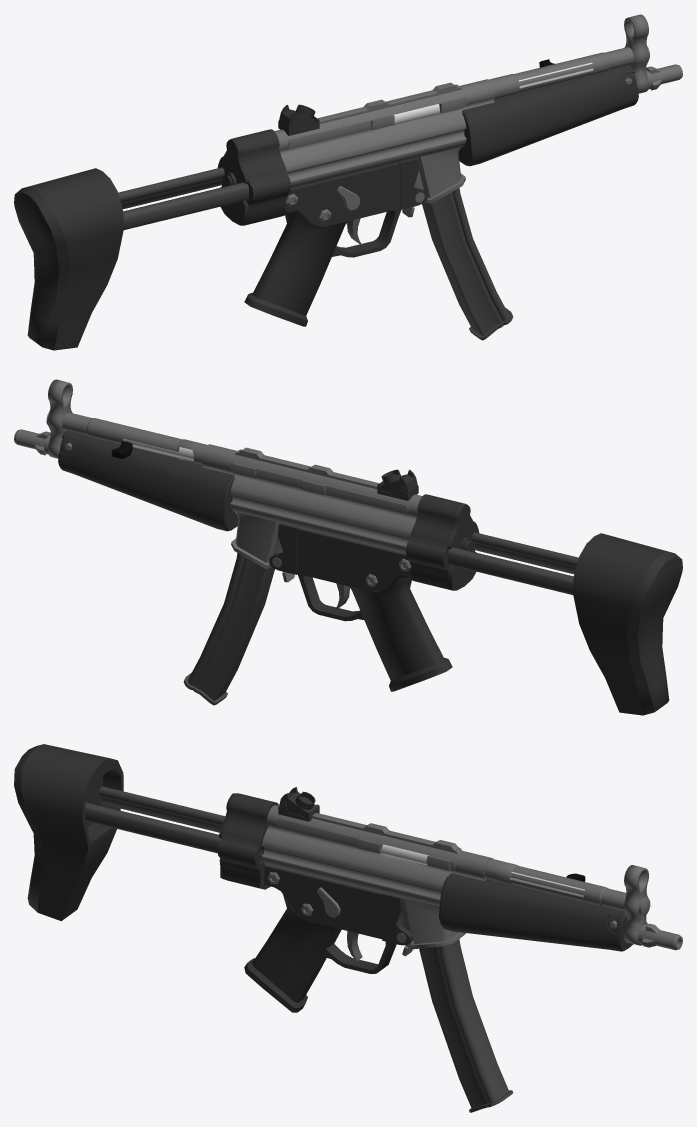
The picture shows the model from 3 angles, top to bottom: view 1: azimuth 30°, elevation 25°; view 2: azimuth 150°, elevation 25°; view 3: azimuth 330°, elevation 25°; orthographic projection.
Parts seen in each view (by area): view 1: HK_MP5; view 2: HK_MP5; view 3: HK_MP5.
Part boxes in pixels (bbox=[...]): HK_MP5: bbox=[14, 14, 682, 350]; HK_MP5: bbox=[14, 379, 682, 715]; HK_MP5: bbox=[14, 744, 682, 1112].
Bounding box in the file's own units: 0.5213 × 0.2144 × 0.0571.
